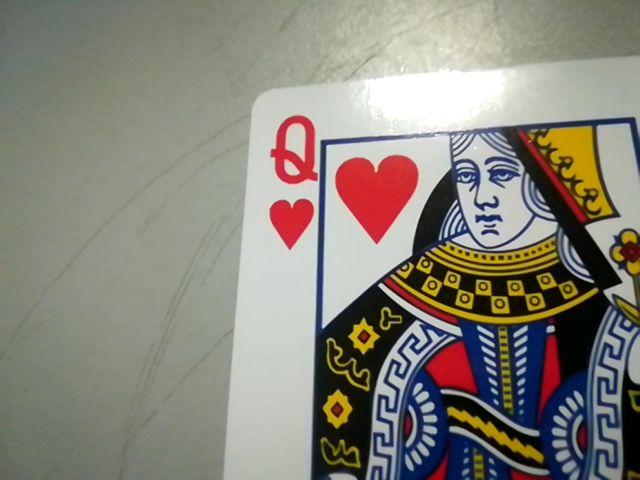hx q: (258, 110, 325, 255)
